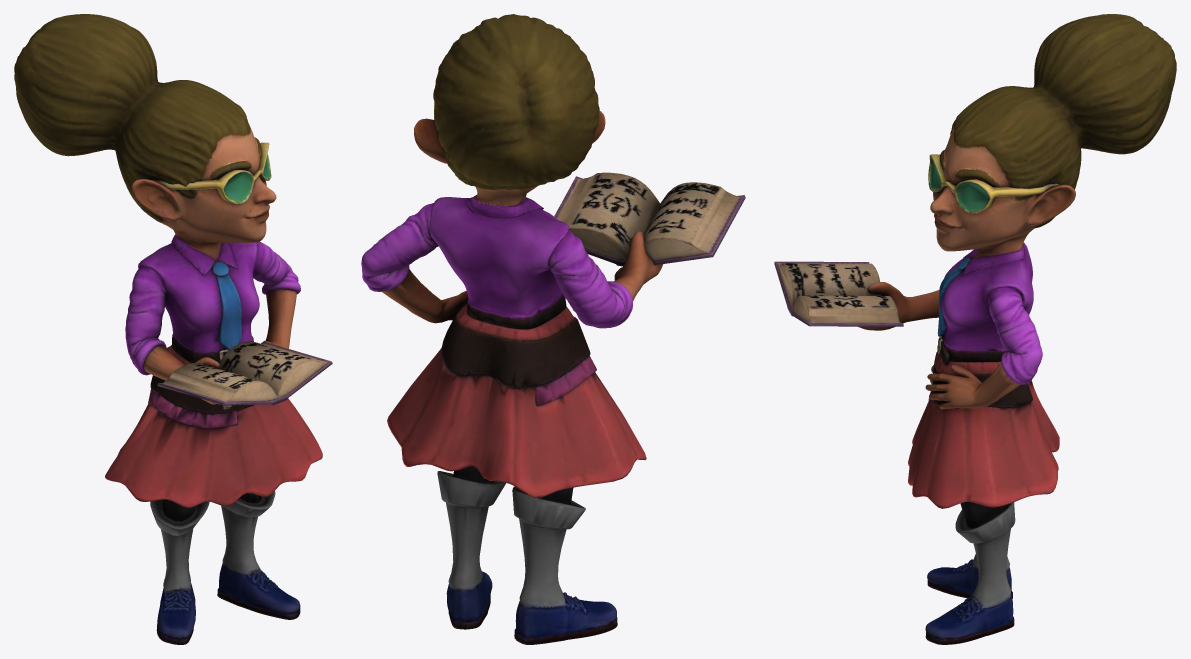
File: MZ4250 - Gnome Female Accountant Wizard (Alt).glb
3 renders of one model, left to right at view 1: azimuth 30°, elevation 25°; view 2: azimuth 150°, elevation 25°; view 3: azimuth 270°, elevation 25°, orthographic. The views are drawn at different scales.
Visible parts, largest first — view 1: Gnome Female Accountant Wizard.001; view 2: Gnome Female Accountant Wizard.001; view 3: Gnome Female Accountant Wizard.001.
Boxes of the visible parts, x1=… form: Gnome Female Accountant Wizard.001: x1=14, y1=14, x2=332, y2=644; Gnome Female Accountant Wizard.001: x1=361, y1=14, x2=745, y2=644; Gnome Female Accountant Wizard.001: x1=774, y1=14, x2=1176, y2=644.
Bounding box in the file's own units: 9.76 × 23.12 × 15.01.
Materials: 1 (1 with a texture image).
